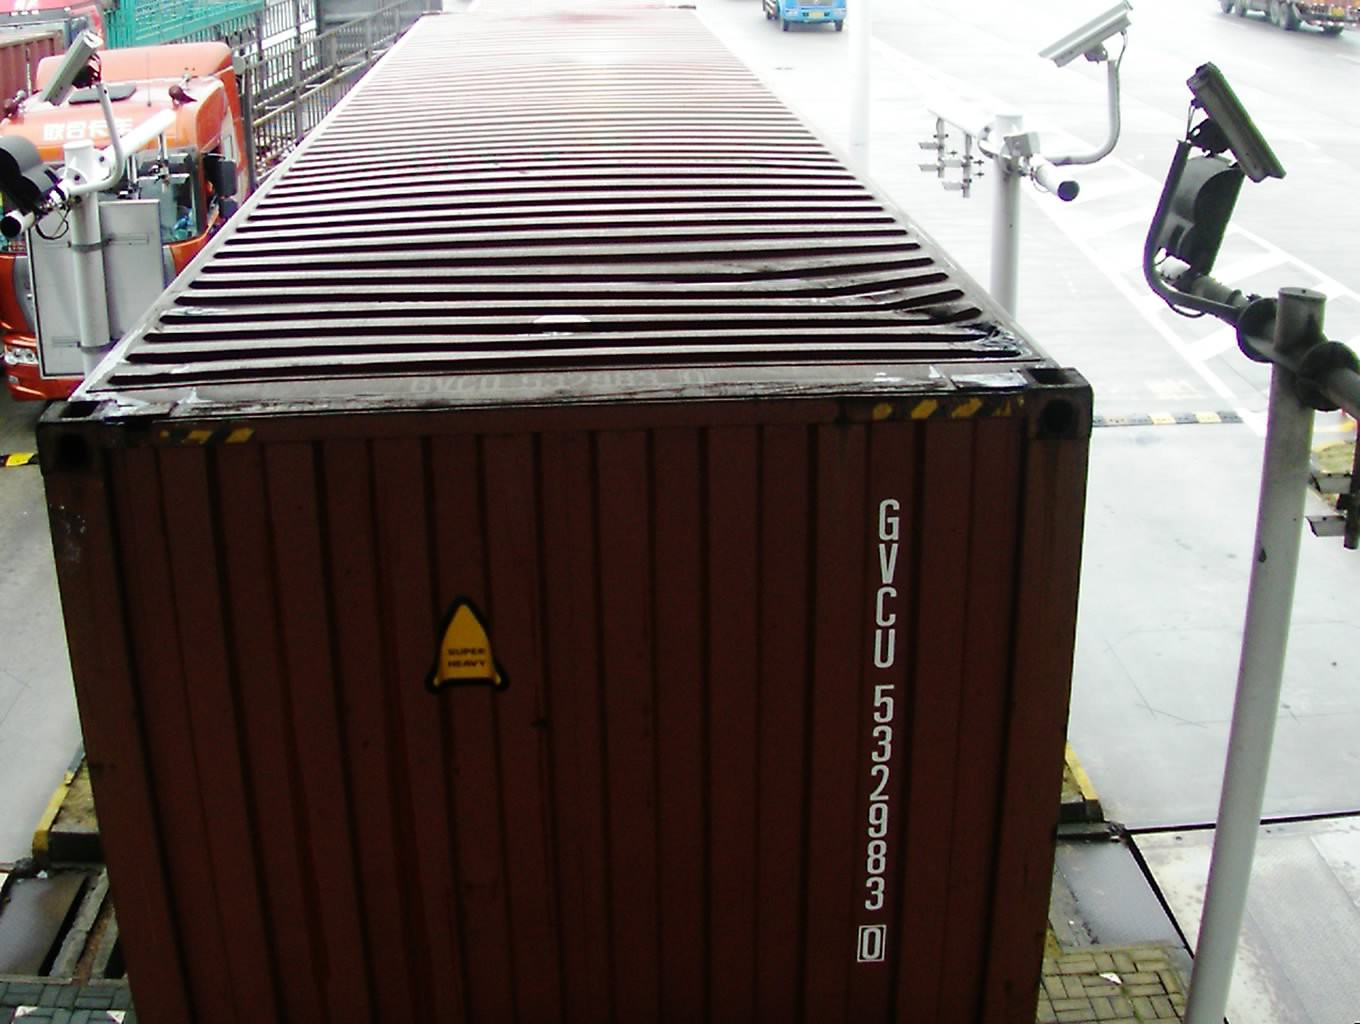words: (847, 484, 907, 967)
